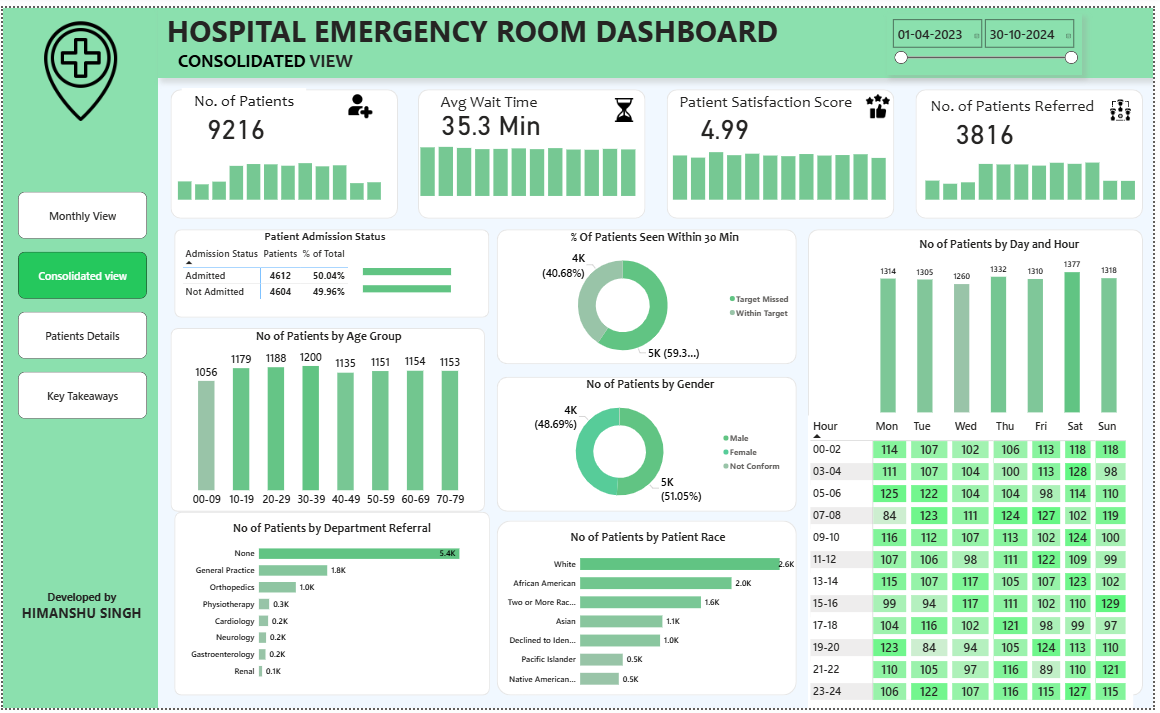

This screenshot's page, from the dashboard's own definition file:
{"tool":"powerbi","page":{"name":"Consolidated view","canvas":[2300,1400],"ordinal":1},"visuals":[{"type":"shape","box":[333.8,162.7,455,258.8],"z":0},{"type":"shape","box":[0,0,310,1400.5],"z":1000},{"type":"shape","box":[310.7,0,1990,140],"z":2000},{"type":"shape","box":[830.5,162.7,455,258.8],"z":3000},{"type":"shape","box":[1327.1,162.7,455,258.8],"z":4000},{"type":"shape","box":[1823.8,162.7,455,258.8],"z":5000},{"type":"textbox","box":[309.6,0,1257.8,104],"z":6000},{"type":"textbox","box":[287.1,76.7,473.4,57],"z":7000},{"type":"card","fields":{"Values":["Hospital ER_Data.No of Patients"]},"box":[350.7,179,232.2,111.3],"z":8000},{"type":"slicer","fields":{"Values":["Data Table.Date"]},"box":[1768.6,13.1,390.1,120.5],"z":9000},{"type":"textbox","box":[358,159.6,249.1,60.5],"z":10000},{"type":"columnChart","fields":{"Y":["Avg(Hospital ER_Data.Patient Waittime)"],"Category":["Data Table.Month Name"]},"box":[830.6,254.2,440.5,127.1],"z":11000},{"type":"columnChart","fields":{"Category":["Data Table.Month Name"],"Y":["Hospital ER_Data.No of Patients"]},"box":[344.1,263,416.4,127.1],"z":12000},{"type":"columnChart","fields":{"Y":["Avg(Hospital ER_Data.Patient Satisfaction Score)"],"Category":["Data Table.Month Name"]},"box":[1334.7,263,436.1,127.1],"z":13000},{"type":"columnChart","fields":{"Category":["Data Table.Month Name"],"Y":["Hospital ER_Data.No of Patient Referred"]},"box":[1838.8,263,429.6,127.1],"z":14000},{"type":"textbox","box":[870.8,162.1,232.2,62.9],"z":15000},{"type":"textbox","box":[1347.3,162.1,389.4,62.9],"z":16000},{"type":"textbox","box":[1850.4,169.3,353.1,62.9],"z":17000},{"type":"card","fields":{"Values":["Hospital ER_Data.Avg Wait Time"]},"box":[859.1,173.1,232.3,111.8],"z":18000},{"type":"card","fields":{"Values":["Hospital ER_Data.No of Patient Referred"]},"box":[1847.5,190.7,232.3,111.8],"z":19000},{"type":"card","fields":{"Values":["Hospital ER_Data.Satisfaction Score"]},"box":[1328.1,179.7,232.3,111.8],"z":20000},{"type":"shape","box":[343.5,442.6,630,177],"z":21000},{"type":"pivotTable","title":"Patient Admission Status","fields":{"Rows":["Hospital ER_Data.Admission Status"],"Values":["Hospital ER_Data.No of Patients1","Hospital ER_Data.No of Patients"]},"box":[355.6,442.6,578.1,176.6],"z":22000},{"type":"barChart","fields":{"Category":["Hospital ER_Data.Admission Status"],"Y":["Hospital ER_Data.No of Patients"]},"box":[716,491,239.5,104],"z":23000},{"type":"shape","box":[333.8,641,628.9,367.7],"z":24000},{"type":"clusteredColumnChart","fields":{"Category":["Hospital ER_Data.Age Group"],"Y":["Hospital ER_Data.No of Patients"]},"box":[358,641,587.8,367.7],"z":25000},{"type":"shape","box":[343.5,1008.6,631.3,367.7],"z":26000},{"type":"clusteredBarChart","fields":{"Category":["Hospital ER_Data.Department Referral"],"Y":["Hospital ER_Data.No of Patients"]},"box":[370.1,1025.6,575.7,331.4],"z":27000},{"type":"shape","box":[987.5,442.5,600,270],"z":28000},{"type":"shape","box":[987.5,737.5,600,270],"z":29000},{"type":"donutChart","title":"% Of Patients Seen Within 30 Min","fields":{"Category":["Hospital ER_Data.waittime Status"],"Y":["Hospital ER_Data.No of Patients"]},"box":[1022.5,442.5,562.5,275],"z":30000},{"type":"donutChart","title":"No of Patients by Gender","fields":{"Y":["Hospital ER_Data.No of Patients"],"Category":["Hospital ER_Data.Patient Gender"]},"box":[1022.5,737.5,545,270],"z":31000},{"type":"shape","box":[987.5,1025,600,350],"z":32000},{"type":"clusteredBarChart","fields":{"Y":["Hospital ER_Data.No of Patients"],"Category":["Hospital ER_Data.Patient Race"]},"box":[992.5,1042.5,595,332.5],"z":33000},{"type":"shape","box":[1610,442.5,670,932.5],"z":34000},{"type":"pivotTable","fields":{"Rows":["Hospital ER_Data.Wait Time Interval"],"Columns":["Data Table.Day Name"],"Values":["Hospital ER_Data.No of Patients"]},"box":[1610,815,650,585],"z":35000},{"type":"columnChart","title":"No of Patients by Day and Hour","fields":{"Category":["Data Table.Day Name"],"Y":["Hospital ER_Data.No of Patients"]},"box":[1750,457.5,485,357.5],"z":36000},{"type":"image","box":[670,171.7,89.5,48.4],"z":37000},{"type":"image","box":[1197.3,179,89.5,48.4],"z":38000},{"type":"image","box":[1705.1,173.1,89.9,48.2],"z":39000},{"type":"image","box":[2189,179,89.5,48.4],"z":40000},{"type":"image","box":[46,19.4,220.1,212.9],"z":41000},{"type":"pageNavigator","box":[29,367.7,258.8,457.2],"z":42000},{"type":"textbox","box":[6.6,1157.2,300.3,131.5],"z":43000}]}

Visuals, with their boxes in screenshot pixels (x1, y1, x2, y2), scaled from the page's 2300x1400 canvas onto the 1160x713 screenshot:
shape: bbox=(168, 83, 398, 215)
shape: bbox=(0, 0, 156, 712)
shape: bbox=(157, 0, 1159, 71)
shape: bbox=(419, 83, 648, 215)
shape: bbox=(669, 83, 899, 215)
shape: bbox=(920, 83, 1149, 215)
textbox: bbox=(156, 0, 791, 53)
textbox: bbox=(145, 39, 384, 68)
card - Hospital ER_Data.No of Patients: bbox=(177, 91, 294, 148)
slicer - Data Table.Date: bbox=(892, 7, 1089, 68)
textbox: bbox=(181, 81, 306, 112)
columnChart - Avg(Hospital ER_Data.Patient Waittime) x Data Table.Month Name: bbox=(419, 129, 641, 194)
columnChart - Data Table.Month Name x Hospital ER_Data.No of Patients: bbox=(174, 134, 384, 199)
columnChart - Avg(Hospital ER_Data.Patient Satisfaction Score) x Data Table.Month Name: bbox=(673, 134, 893, 199)
columnChart - Data Table.Month Name x Hospital ER_Data.No of Patient Referred: bbox=(927, 134, 1144, 199)
textbox: bbox=(439, 83, 556, 115)
textbox: bbox=(680, 83, 876, 115)
textbox: bbox=(933, 86, 1111, 118)
card - Hospital ER_Data.Avg Wait Time: bbox=(433, 88, 550, 145)
card - Hospital ER_Data.No of Patient Referred: bbox=(932, 97, 1049, 154)
card - Hospital ER_Data.Satisfaction Score: bbox=(670, 92, 787, 148)
shape: bbox=(173, 225, 491, 316)
"Patient Admission Status" pivotTable: bbox=(179, 225, 471, 315)
barChart - Hospital ER_Data.Admission Status x Hospital ER_Data.No of Patients: bbox=(361, 250, 482, 303)
shape: bbox=(168, 326, 486, 514)
clusteredColumnChart - Hospital ER_Data.Age Group x Hospital ER_Data.No of Patients: bbox=(181, 326, 477, 514)
shape: bbox=(173, 514, 492, 701)
clusteredBarChart - Hospital ER_Data.Department Referral x Hospital ER_Data.No of Patients: bbox=(187, 522, 477, 691)
shape: bbox=(498, 225, 801, 363)
shape: bbox=(498, 376, 801, 513)
"% Of Patients Seen Within 30 Min" donutChart: bbox=(516, 225, 799, 365)
"No of Patients by Gender" donutChart: bbox=(516, 376, 791, 513)
shape: bbox=(498, 522, 801, 700)
clusteredBarChart - Hospital ER_Data.No of Patients x Hospital ER_Data.Patient Race: bbox=(501, 531, 801, 700)
shape: bbox=(812, 225, 1150, 700)
pivotTable - Hospital ER_Data.Wait Time Interval x Data Table.Day Name: bbox=(812, 415, 1140, 712)
"No of Patients by Day and Hour" columnChart: bbox=(883, 233, 1127, 415)
image: bbox=(338, 87, 383, 112)
image: bbox=(604, 91, 649, 116)
image: bbox=(860, 88, 905, 113)
image: bbox=(1104, 91, 1149, 116)
image: bbox=(23, 10, 134, 118)
pageNavigator: bbox=(15, 187, 145, 420)
textbox: bbox=(3, 589, 155, 656)
